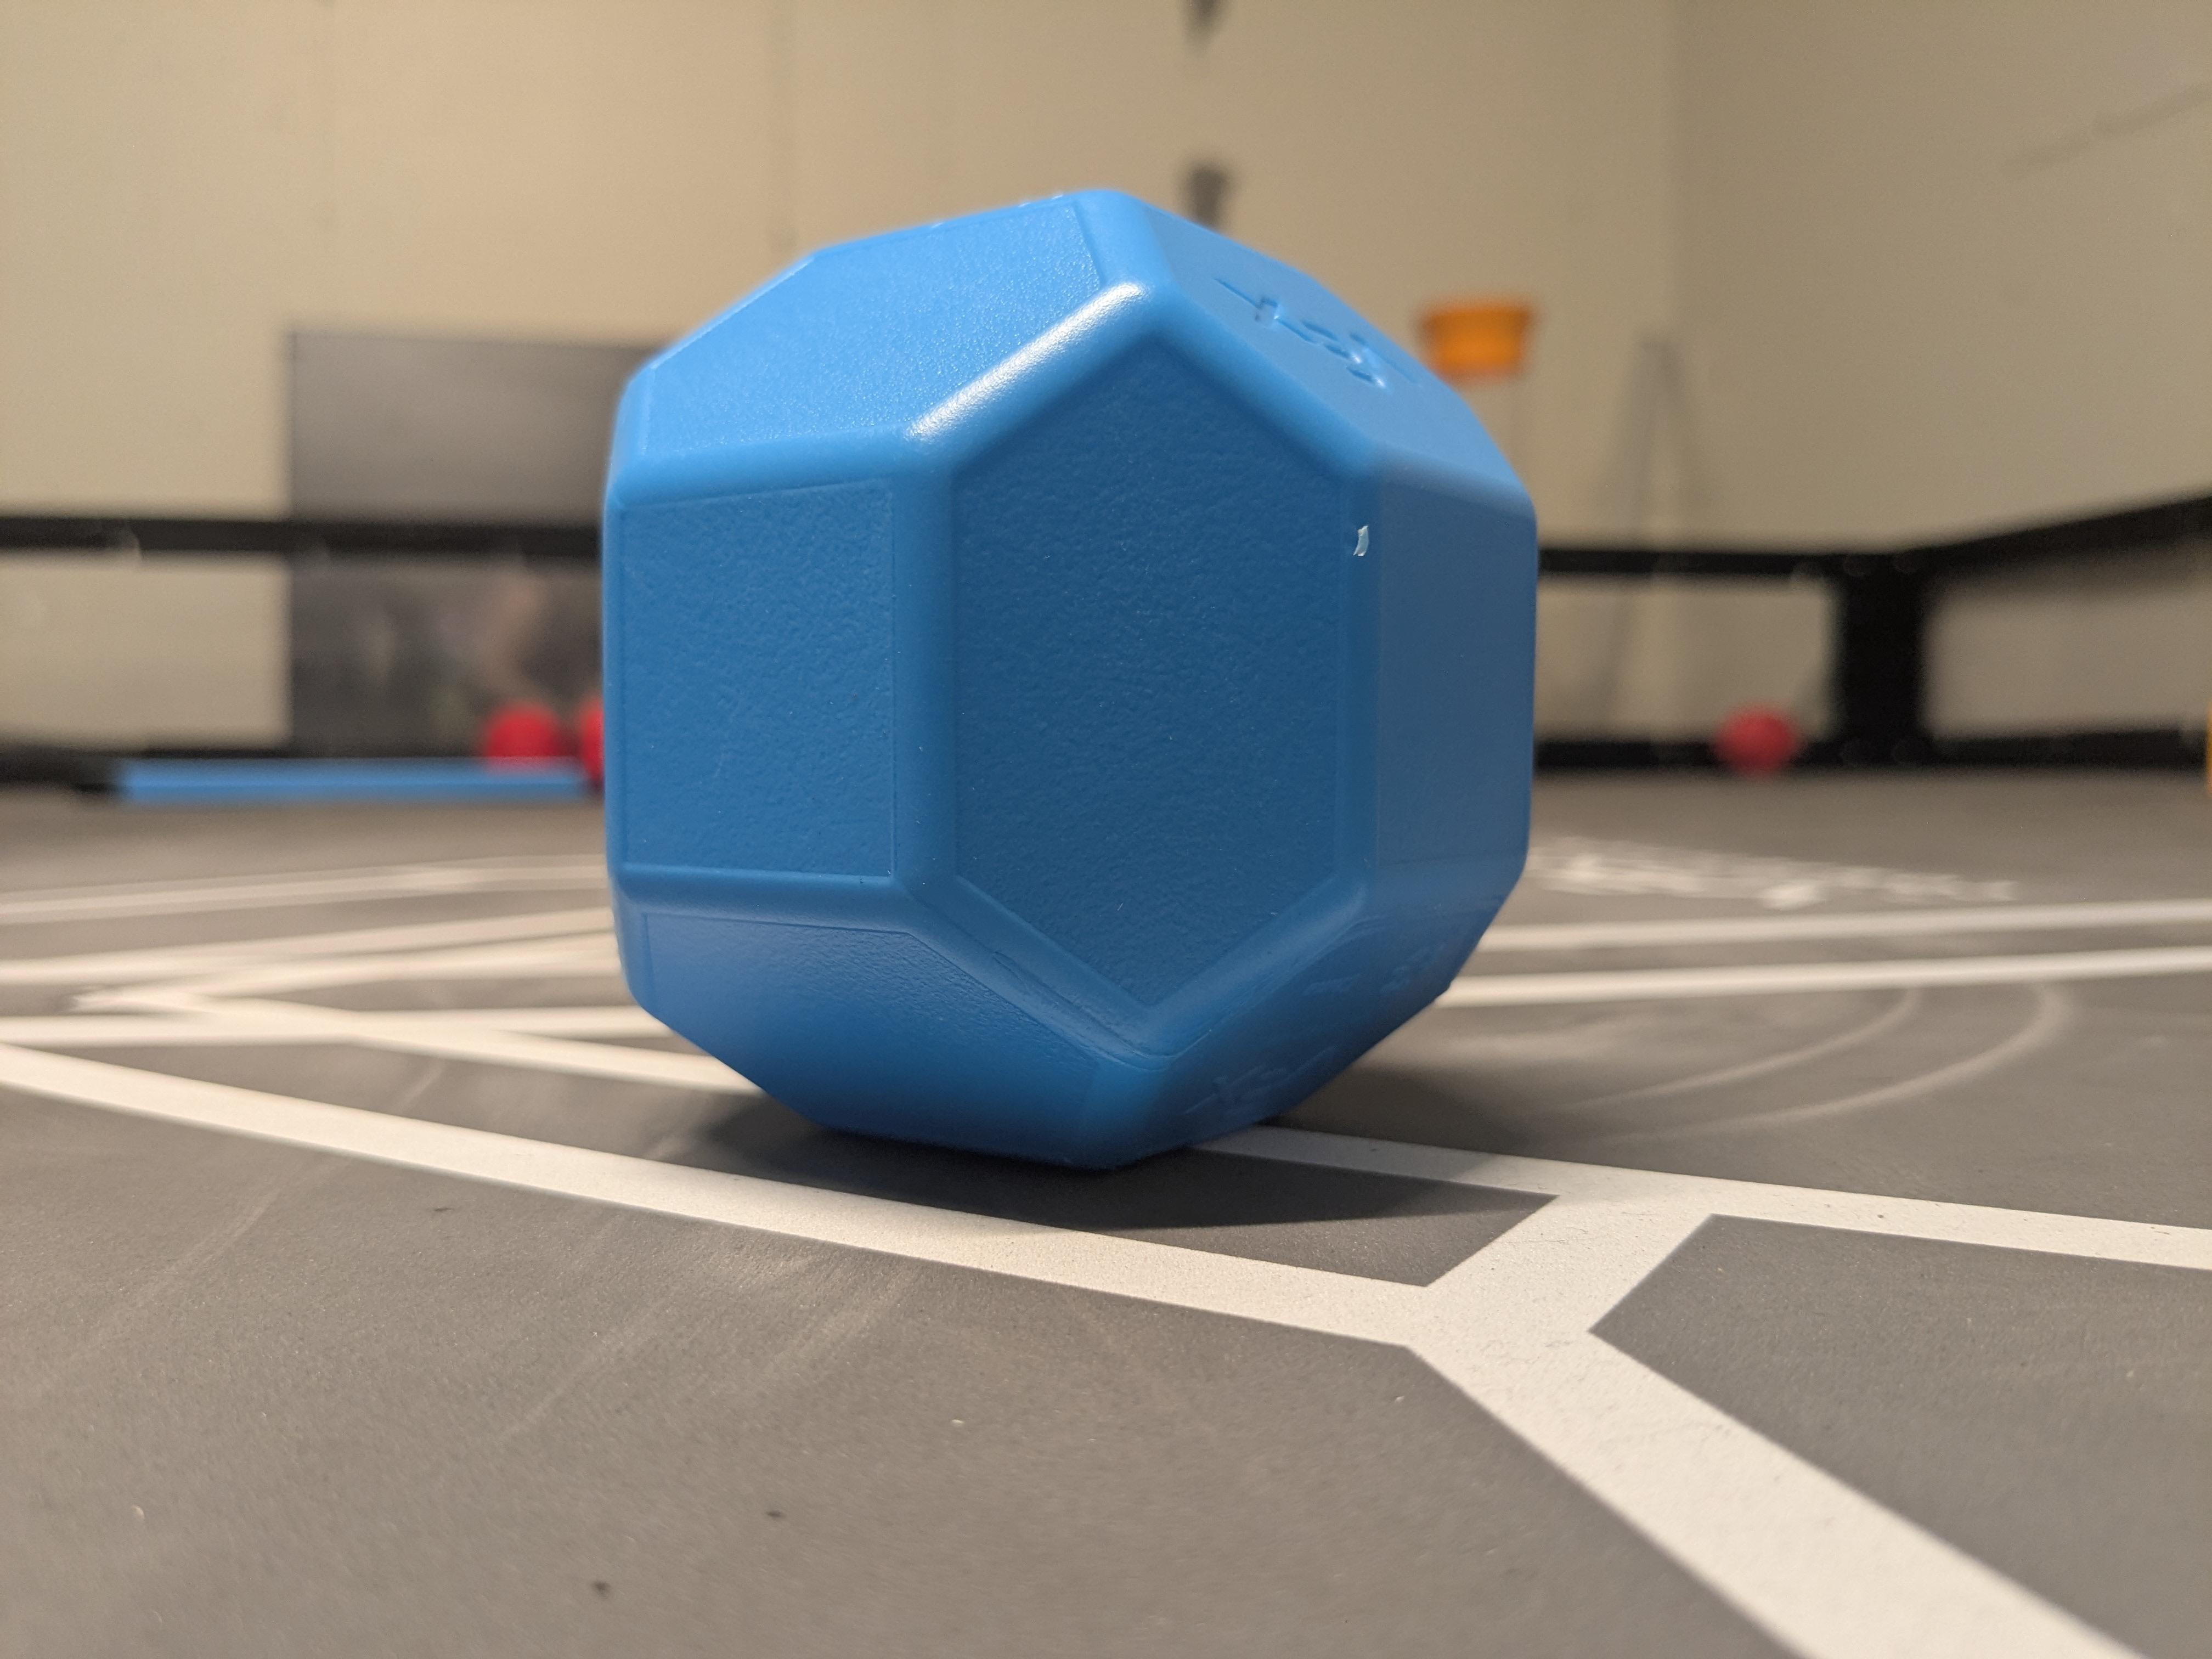Vex-Pieces-BLUE: (603, 192, 1538, 1166)
